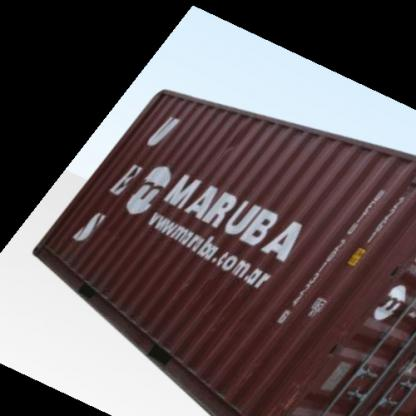Damage: (173, 259, 245, 327), (210, 128, 238, 166)
